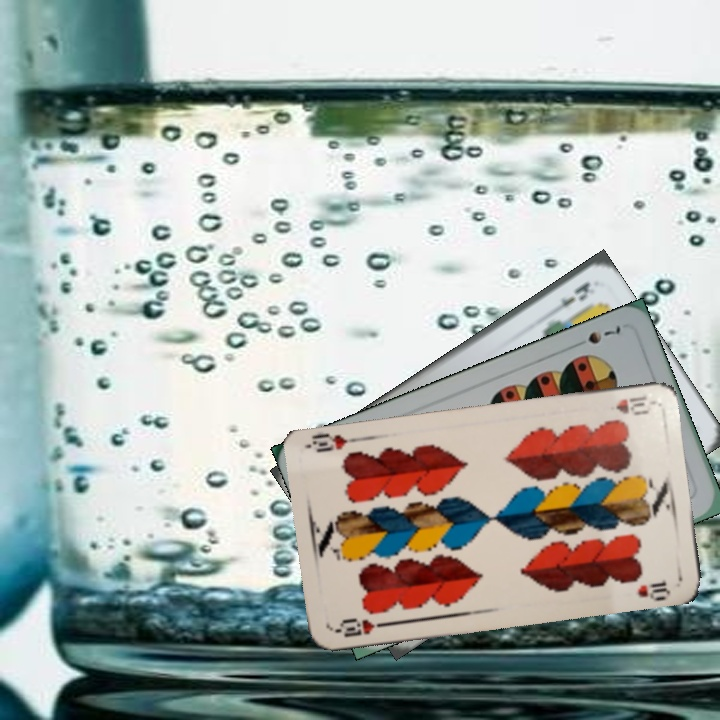EK: (544, 277, 598, 319)
H10: (331, 614, 390, 640), (611, 392, 651, 417)
S7: (583, 321, 624, 347)
